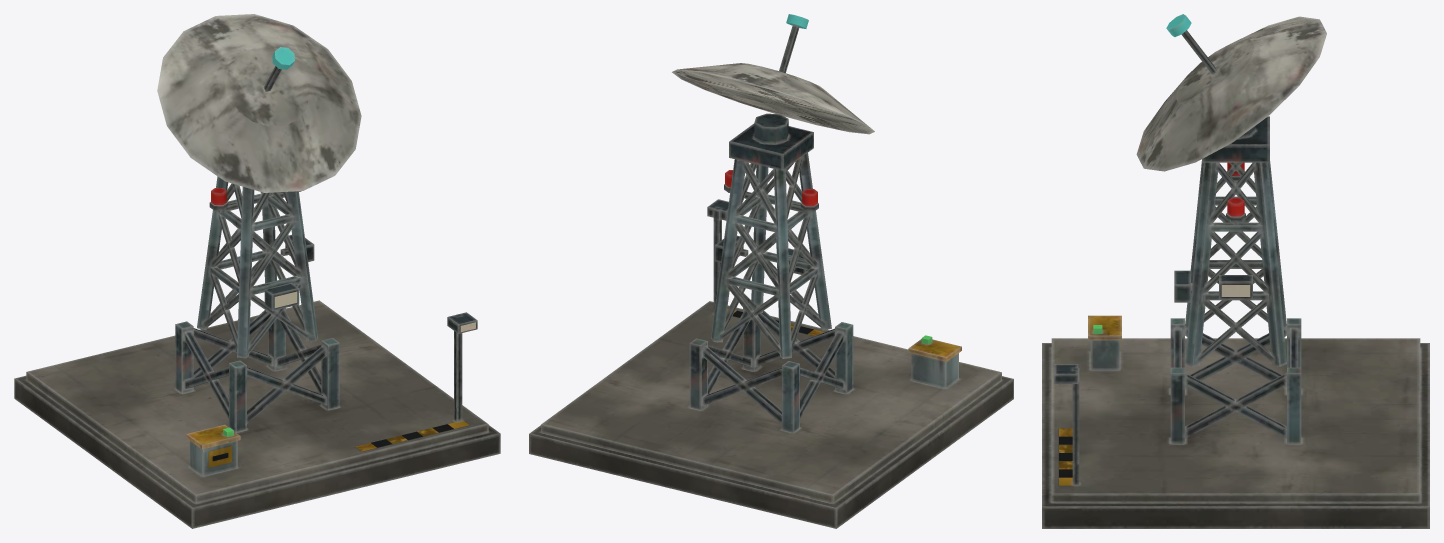
File: deep_space_sensor.glb
The picture shows the model from 3 angles, left to right: view 1: azimuth 30°, elevation 25°; view 2: azimuth 150°, elevation 25°; view 3: azimuth 270°, elevation 25°; orthographic projection. The views are drawn at different scales.
Parts seen in each view (by area): view 1: te_deep_space_sensor, move_dish; view 2: te_deep_space_sensor, move_dish; view 3: te_deep_space_sensor, move_dish.
Boxes of the visible parts, bbox=[...] form: te_deep_space_sensor: bbox=[14, 176, 500, 528]; move_dish: bbox=[157, 14, 361, 192]; te_deep_space_sensor: bbox=[529, 123, 1013, 528]; move_dish: bbox=[672, 14, 874, 143]; te_deep_space_sensor: bbox=[1042, 116, 1429, 528]; move_dish: bbox=[1136, 14, 1326, 171].
Size of the model in its own units: 0.8 by 0.9818 by 0.8.
Materials: 1 (1 with a texture image).
